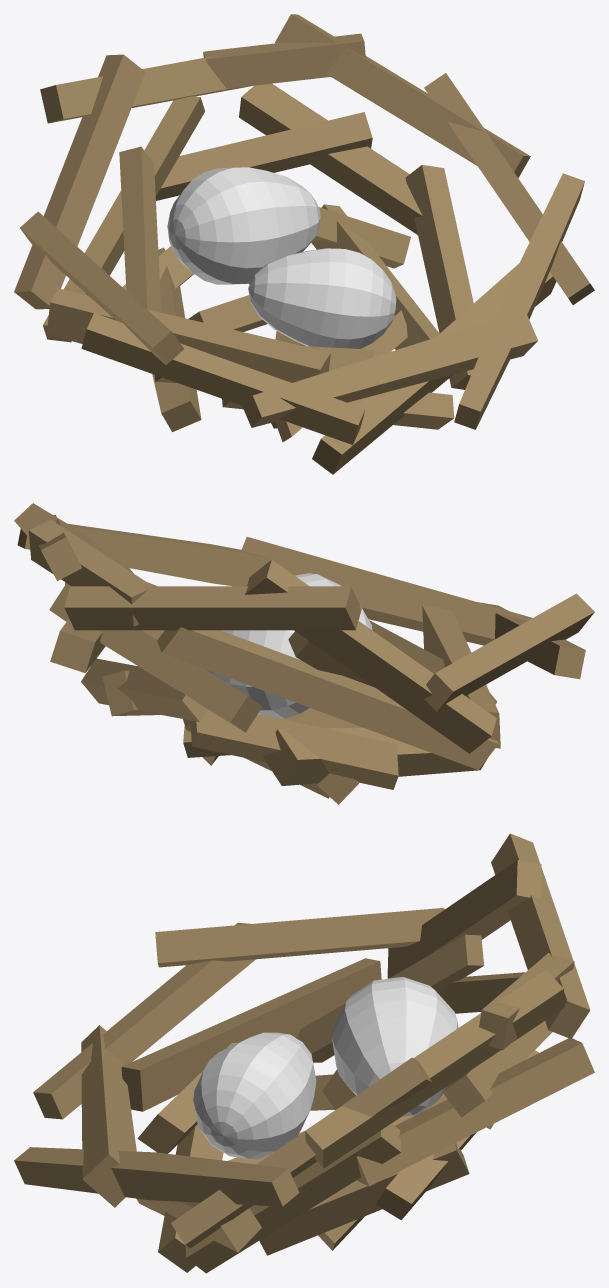
Rendered from nest.fbx.
3 renders of one model, top to bottom at view 1: azimuth 30°, elevation 25°; view 2: azimuth 150°, elevation 25°; view 3: azimuth 270°, elevation 25°, orthographic. The views are drawn at different scales.
Visible parts, largest first — view 1: polySurface15, polySurface44, polySurface43; view 2: polySurface15, polySurface44, polySurface43; view 3: polySurface15, polySurface43, polySurface44.
Boxes of the visible parts, x1,y1,x2,y2 form: polySurface15: [14, 14, 594, 474]; polySurface44: [167, 167, 320, 284]; polySurface43: [248, 248, 396, 348]; polySurface15: [14, 503, 594, 804]; polySurface44: [204, 630, 310, 718]; polySurface43: [295, 573, 372, 629]; polySurface15: [14, 833, 594, 1273]; polySurface43: [193, 1032, 316, 1159]; polySurface44: [332, 977, 458, 1117].
Bounding box in the file's own units: 0.5974 × 0.3461 × 0.5402.
